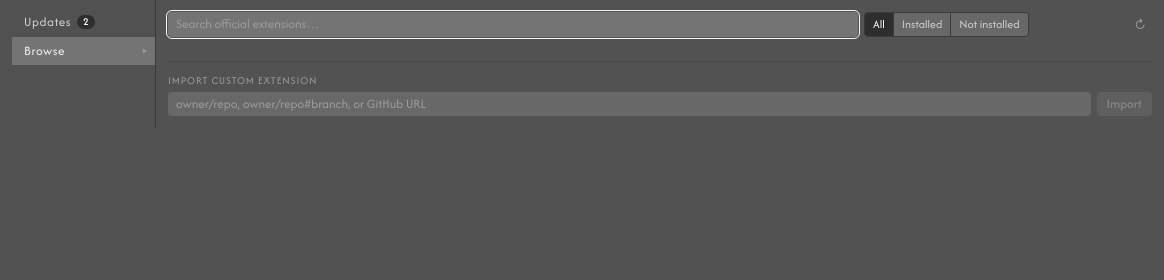
it: ExtensionManagerPanel Update all › updates every counted extension and passes over a kept one
Click the button "Updates 2" at [84, 22], box [12, 8, 155, 36]
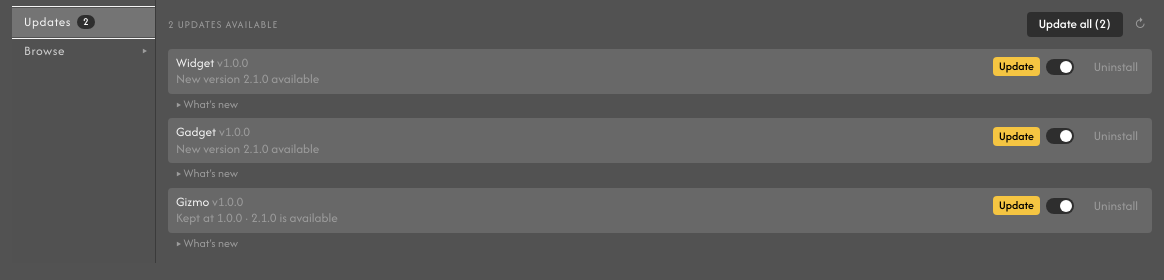
Click the button "Update all (2)" at [1075, 24], box [1027, 12, 1122, 36]
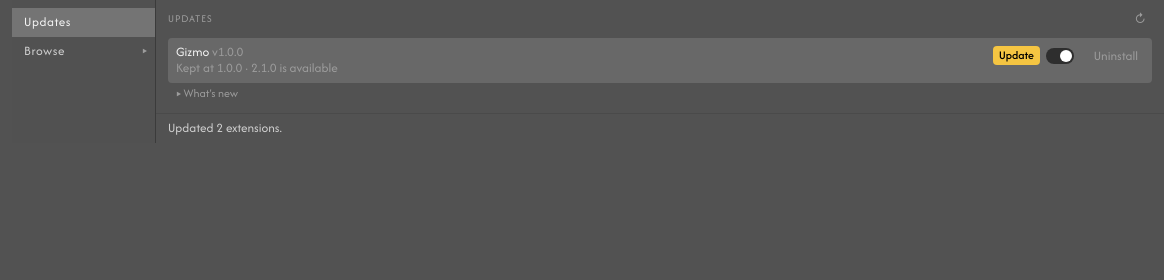
Expected: the text "Updated 2 extensions." is shown, [156, 113, 1163, 142]
